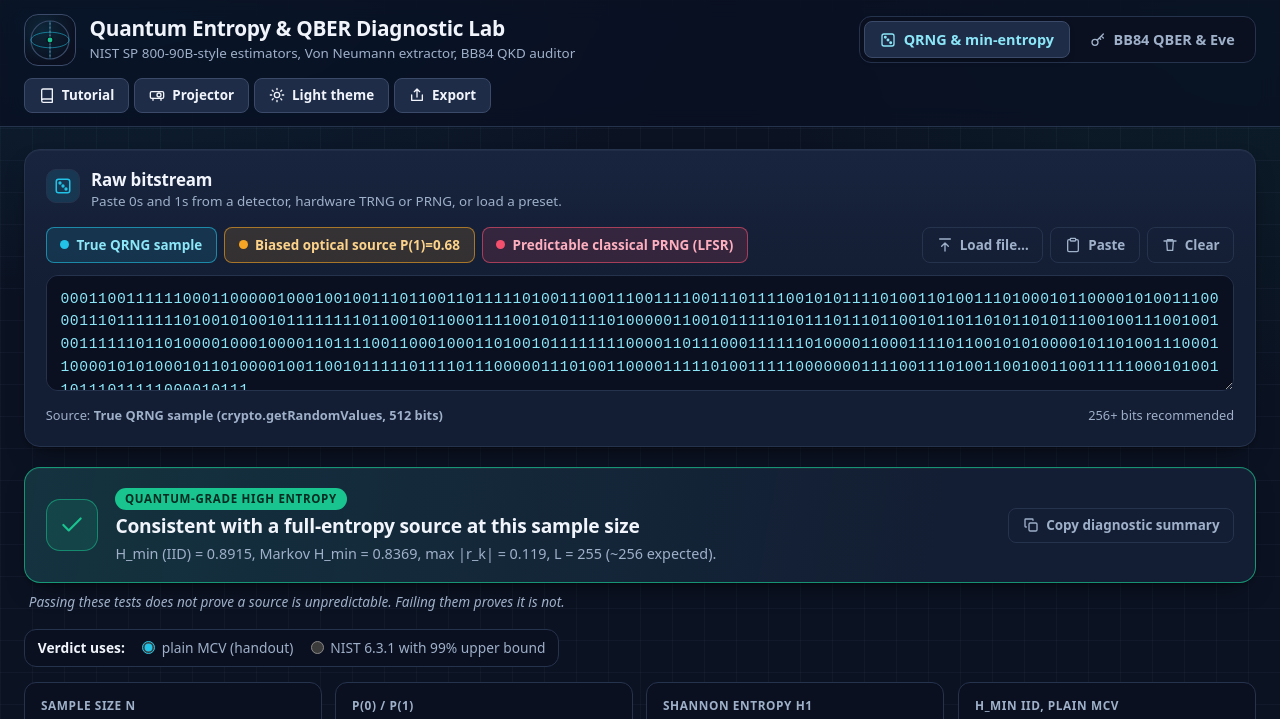
it: UI smoke tests › flags the LFSR preset as Classical / deterministic
Click the button "Predictable classical PRNG (LFSR)": point(615, 245) left=482, top=227, right=748, bottom=262
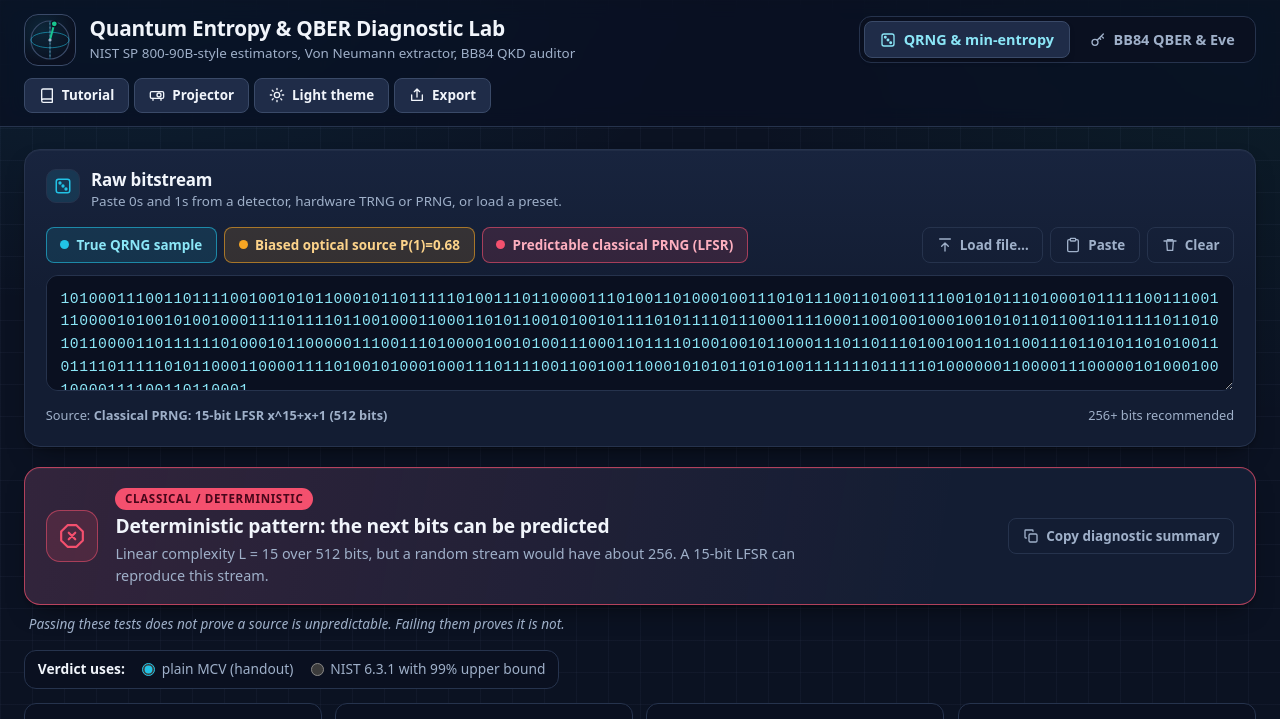
Result: the text "Classical / deterministic" is shown at left=115, top=488, right=313, bottom=510
Result: the text "LFSR can reproduce this stream" is shown at left=115, top=544, right=795, bottom=585
